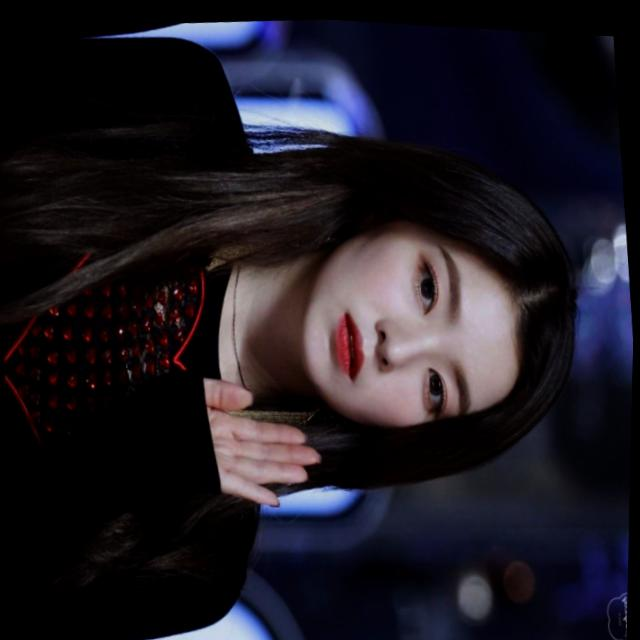face: (287, 196, 536, 453)
